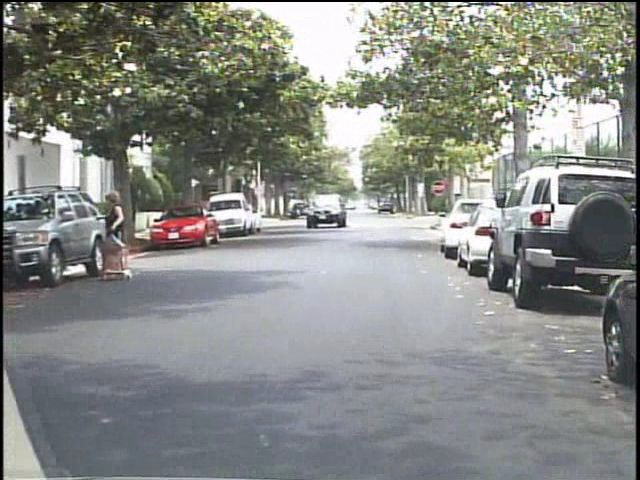person: (102, 186, 138, 280)
